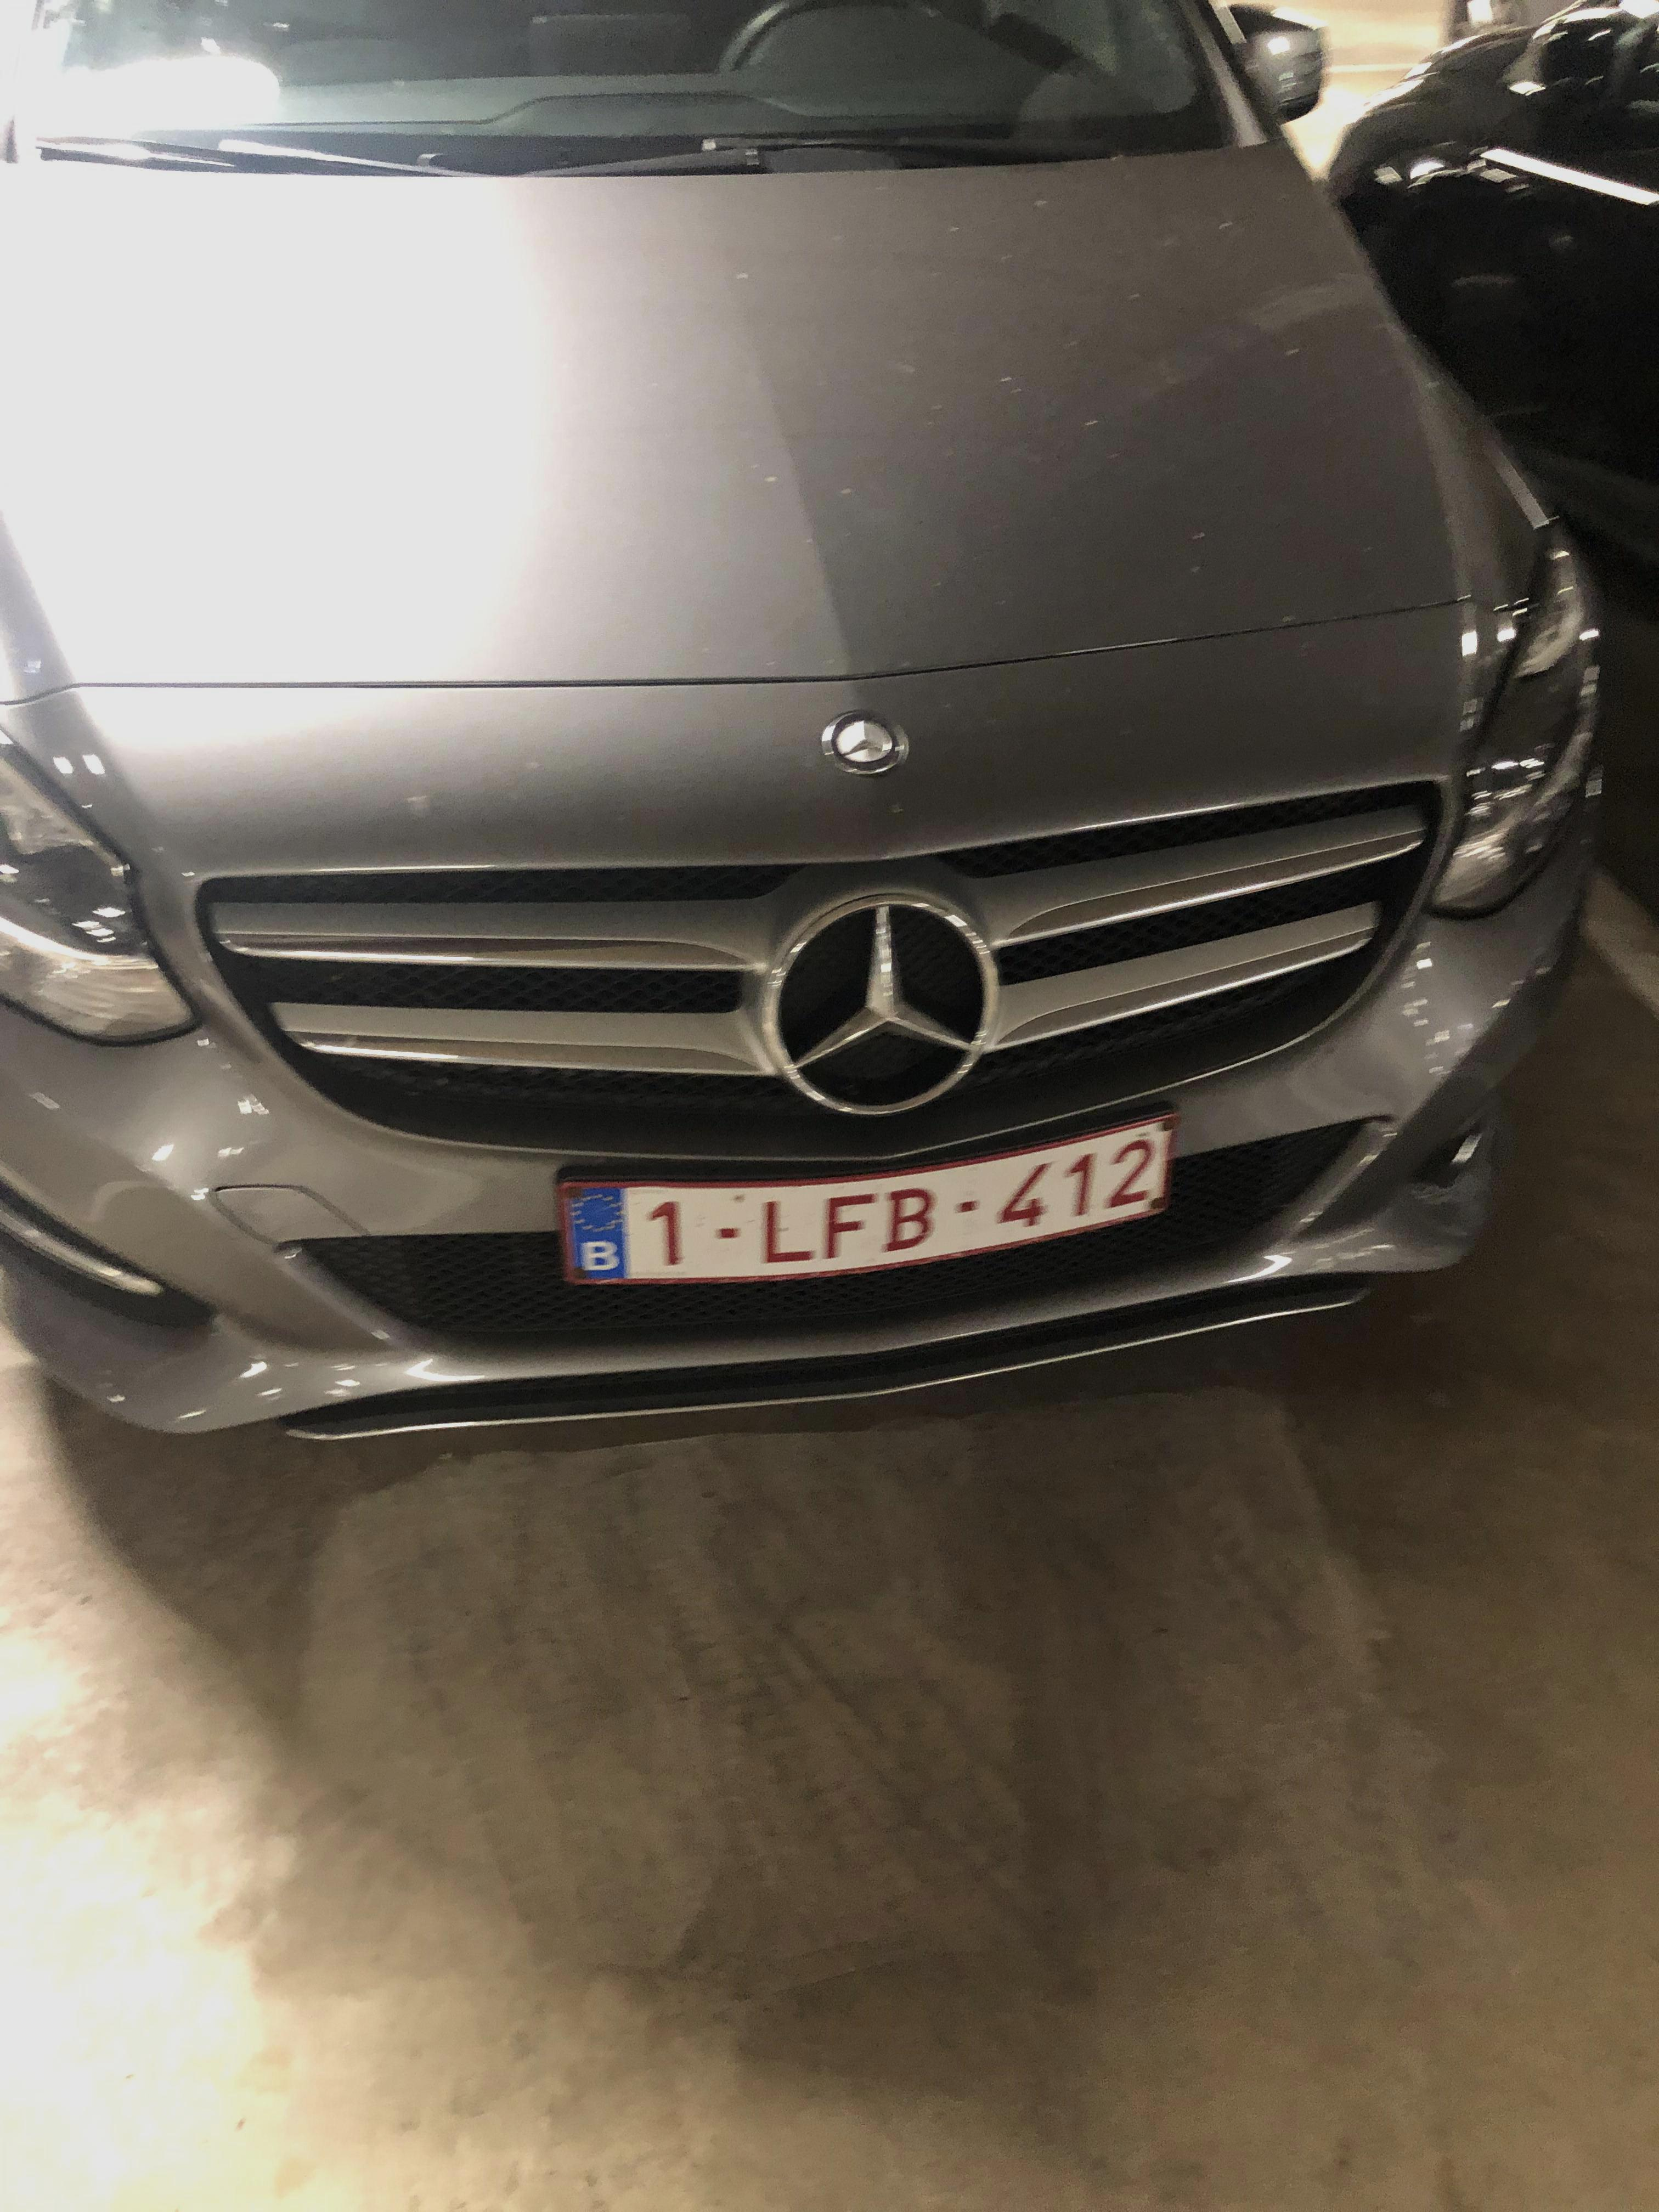plate: (526, 1102, 1188, 1306)
